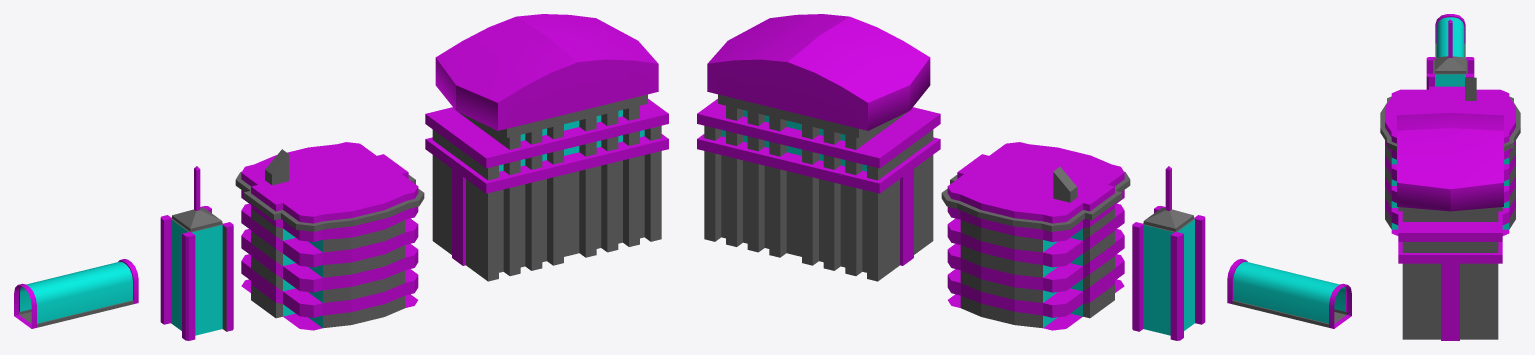
The model's file is Mesh_Buildings_All.fbx.
The picture shows the model from 3 angles, left to right: view 1: azimuth 30°, elevation 25°; view 2: azimuth 150°, elevation 25°; view 3: azimuth 270°, elevation 25°; orthographic projection. The views are drawn at different scales.
Visible parts, largest first — view 1: Big_Building, Medium_Building, Small_Building, Tube; view 2: Big_Building, Medium_Building, Small_Building, Tube; view 3: Big_Building, Medium_Building, Small_Building, Tube.
Part boxes in pixels (box(x1,y1,x2,y2)): Big_Building: box(425, 14, 668, 281); Medium_Building: box(235, 142, 424, 330); Small_Building: box(160, 166, 233, 340); Tube: box(14, 259, 138, 328); Big_Building: box(697, 14, 940, 281); Medium_Building: box(941, 142, 1130, 330); Small_Building: box(1132, 166, 1205, 340); Tube: box(1227, 259, 1351, 328); Big_Building: box(1397, 113, 1503, 340); Medium_Building: box(1380, 77, 1520, 235); Small_Building: box(1426, 19, 1474, 89); Tube: box(1435, 14, 1465, 57).
Bounding box in the file's own units: 5100 × 1615 × 1173.
